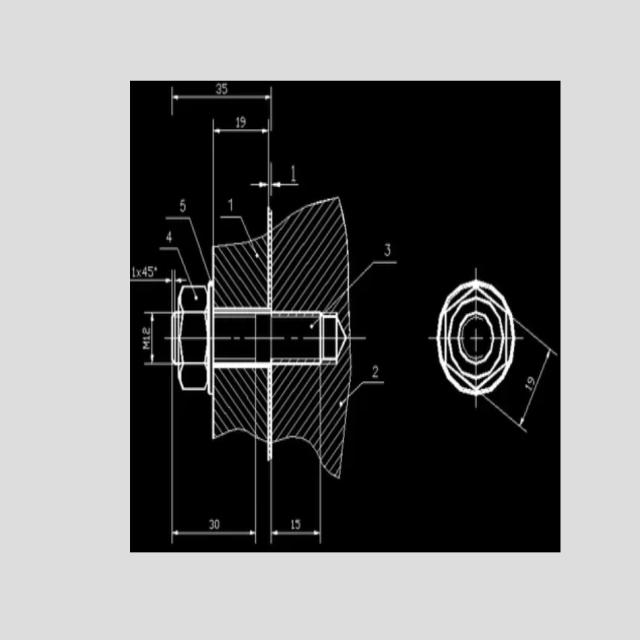marking_line: (165, 87, 271, 203), (171, 441, 260, 549), (209, 120, 273, 205), (269, 464, 322, 547), (515, 350, 559, 433), (251, 163, 299, 204), (142, 310, 170, 368)
numeric: (226, 198, 235, 214), (370, 362, 379, 378), (179, 199, 187, 214), (165, 228, 173, 243), (291, 164, 297, 184), (240, 115, 247, 130), (215, 81, 222, 96), (222, 82, 229, 96), (384, 243, 391, 257), (526, 376, 535, 386), (148, 266, 154, 280), (294, 518, 301, 530), (142, 266, 148, 279), (208, 519, 214, 530), (524, 385, 533, 392), (214, 519, 219, 531), (236, 115, 240, 128), (291, 518, 295, 529), (132, 266, 135, 277)
special_symbol: (154, 266, 158, 271)
